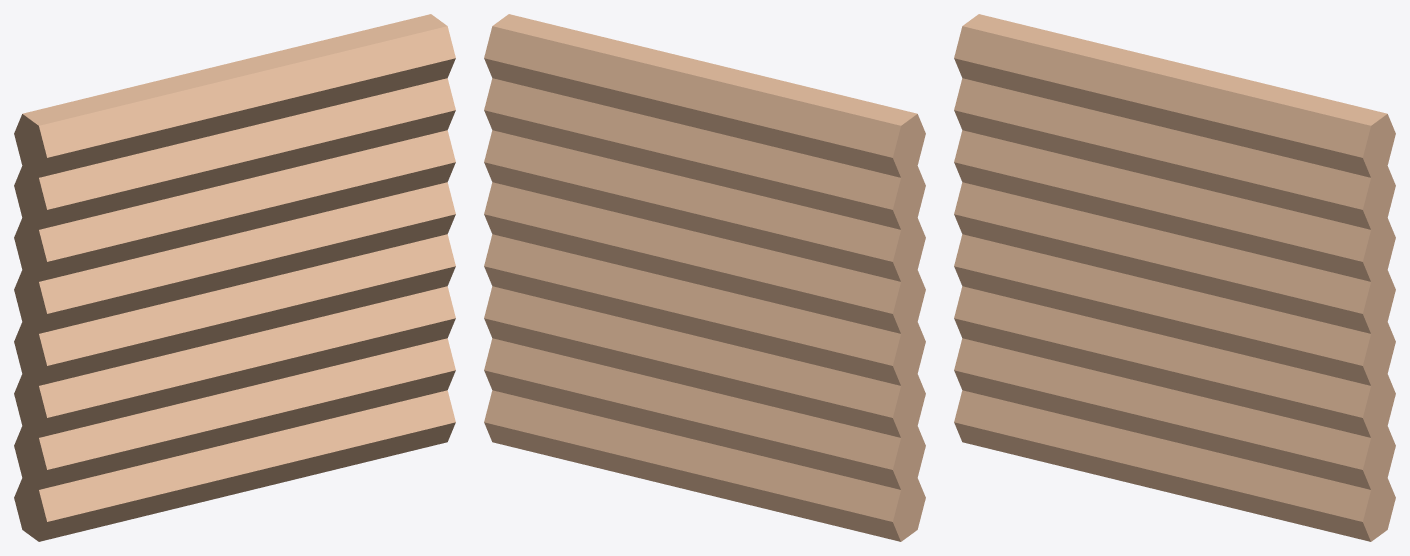
File: cabinWall.glb
3 renders of one model, left to right at view 1: azimuth 30°, elevation 25°; view 2: azimuth 150°, elevation 25°; view 3: azimuth 330°, elevation 25°, orthographic.
Visible parts, largest first — view 1: cabinWall(Clone); view 2: cabinWall(Clone); view 3: cabinWall(Clone).
Boxes of the visible parts, x1,y1,x2,y2 form: cabinWall(Clone): (14,14,455,541); cabinWall(Clone): (484,14,925,541); cabinWall(Clone): (954,14,1395,541).
Bounding box in the file's own units: 1 × 0.9727 × 0.1404.
